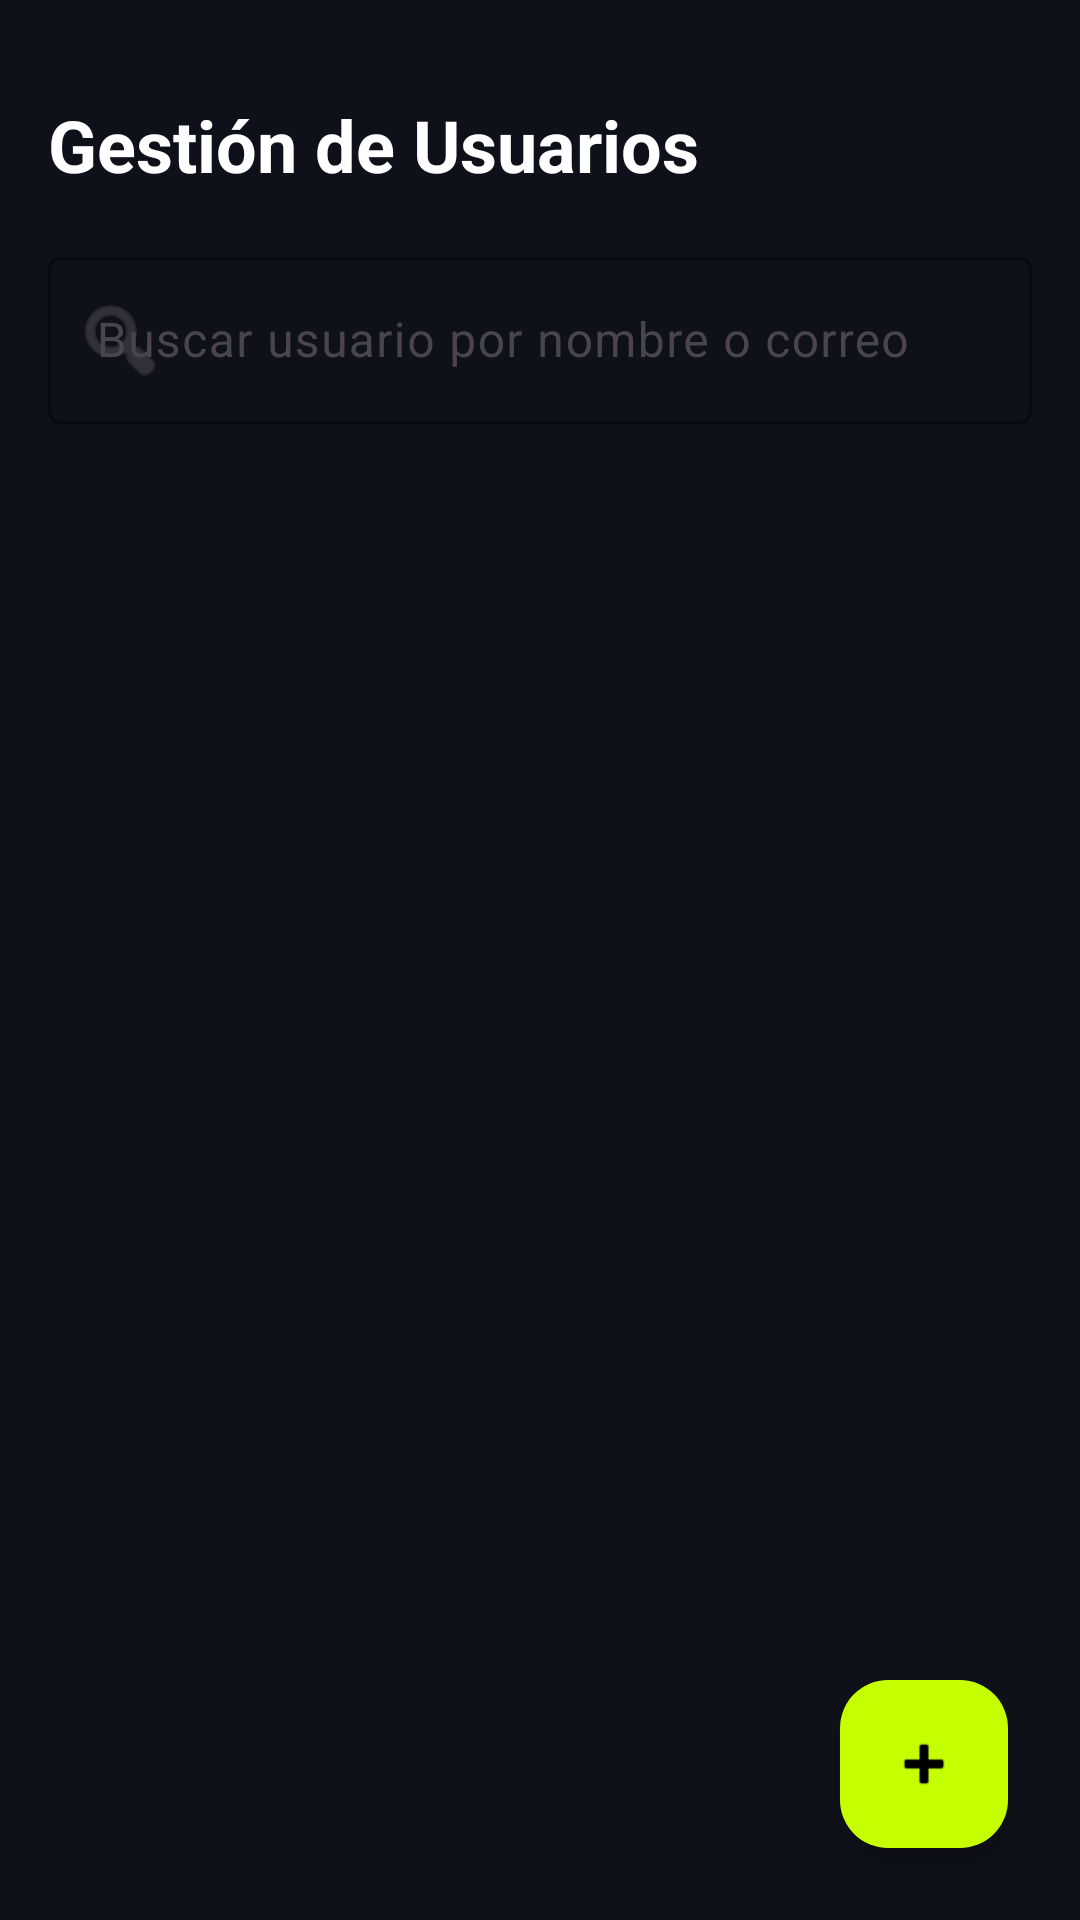

Locate icon controls on the screen. Image size 1080px x 1920px, boxes as BBox(x1, y1, x2, y2).
Agregar usuario: BBox(840, 1680, 1008, 1848)
